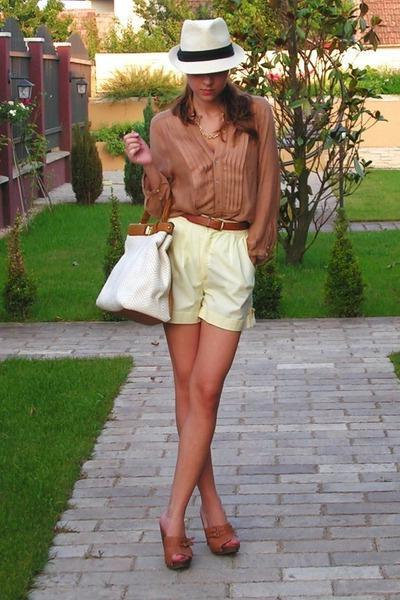Shorts: (151, 216, 258, 332)
